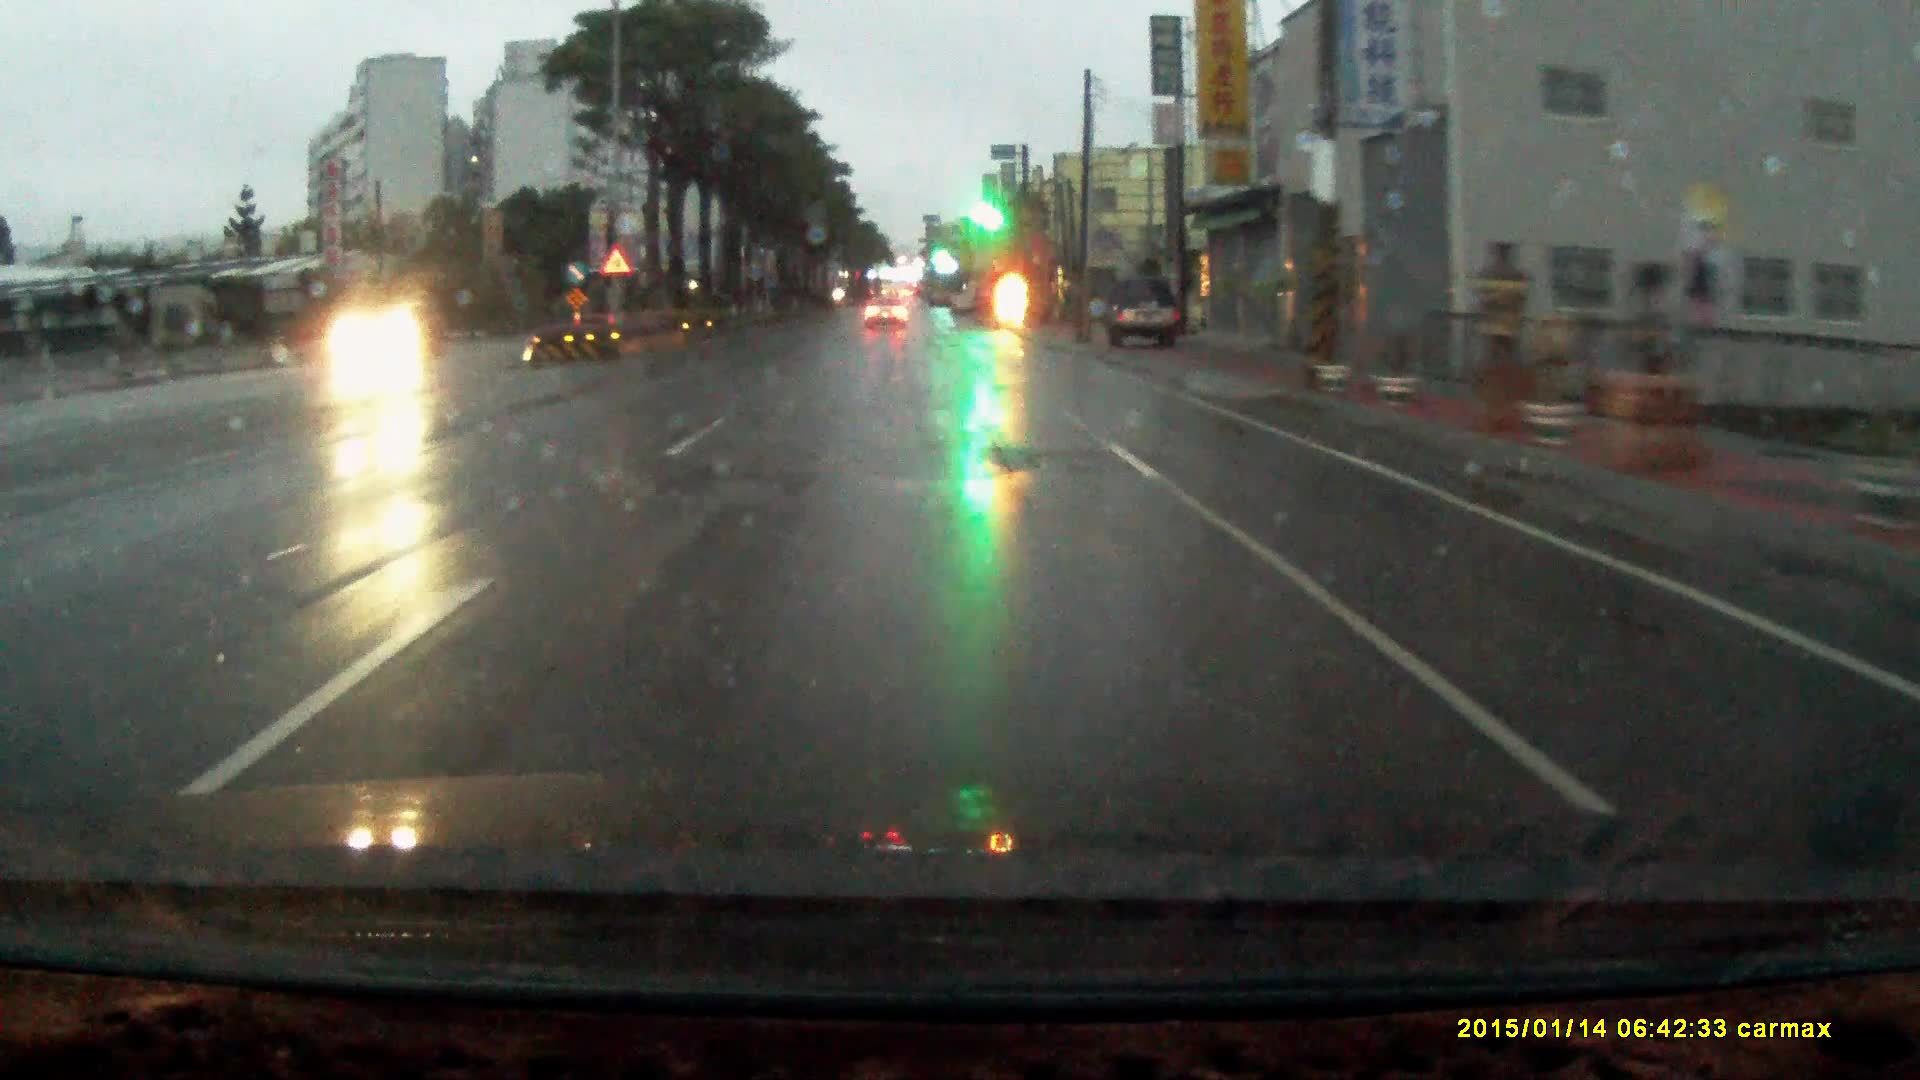vehicle: (1106, 280, 1184, 355), (864, 301, 910, 336)
